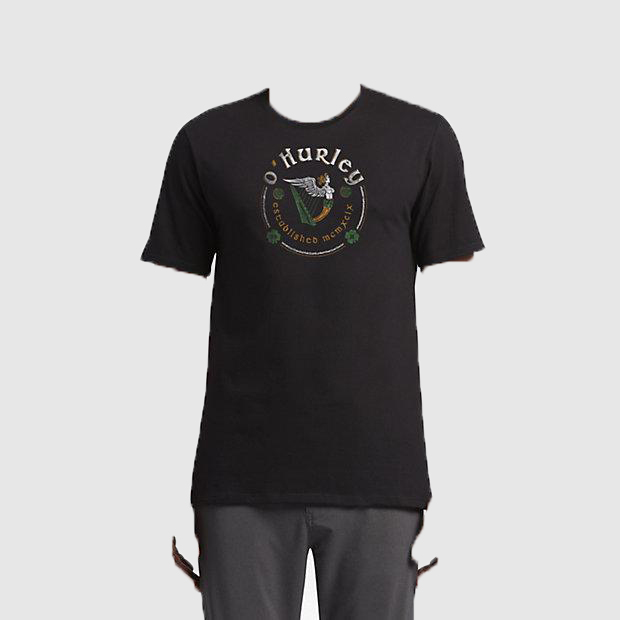teeshirt: (125, 87, 495, 515)
